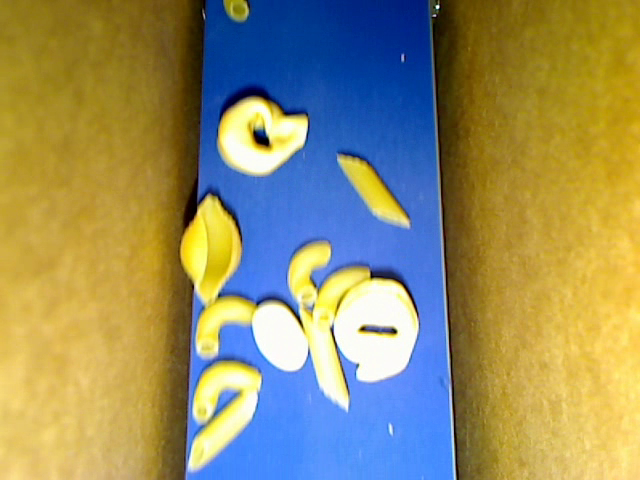elbow: (191, 360, 261, 423), (194, 294, 256, 359), (311, 266, 370, 328), (287, 239, 330, 308), (222, 1, 249, 23)
penne: (188, 388, 257, 471), (335, 152, 410, 226), (298, 306, 349, 410)
shell: (180, 192, 241, 306)
tortellini: (333, 277, 418, 382), (217, 97, 307, 176)
